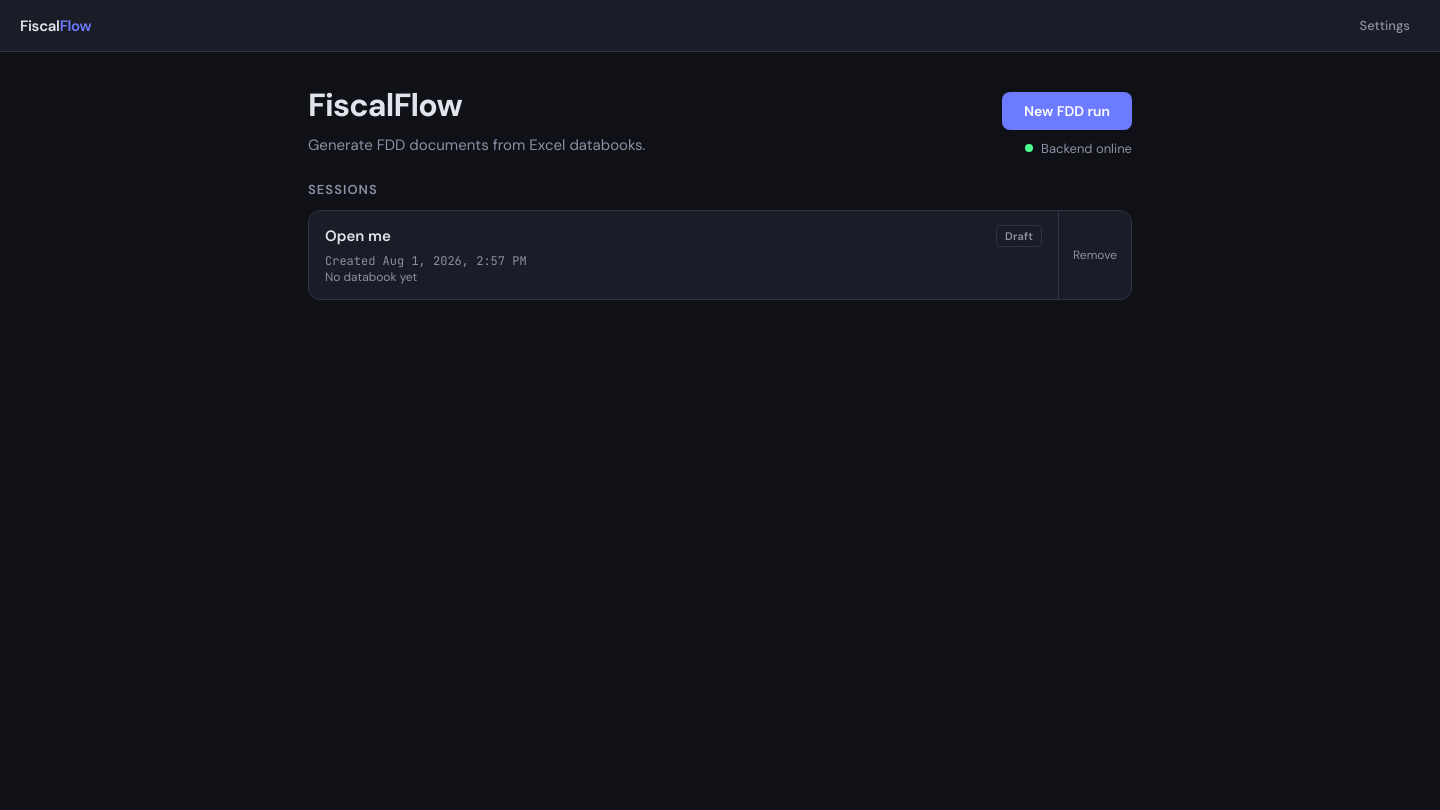
Test: HomePage sessions › opens an existing session on click
The image size is (1440, 810).
Check: the heading "Open me" is shown, box [325,226,391,246]
Click the button with aria-label "Open Open me". click: (358, 236)
box: [309,210,1058,298]
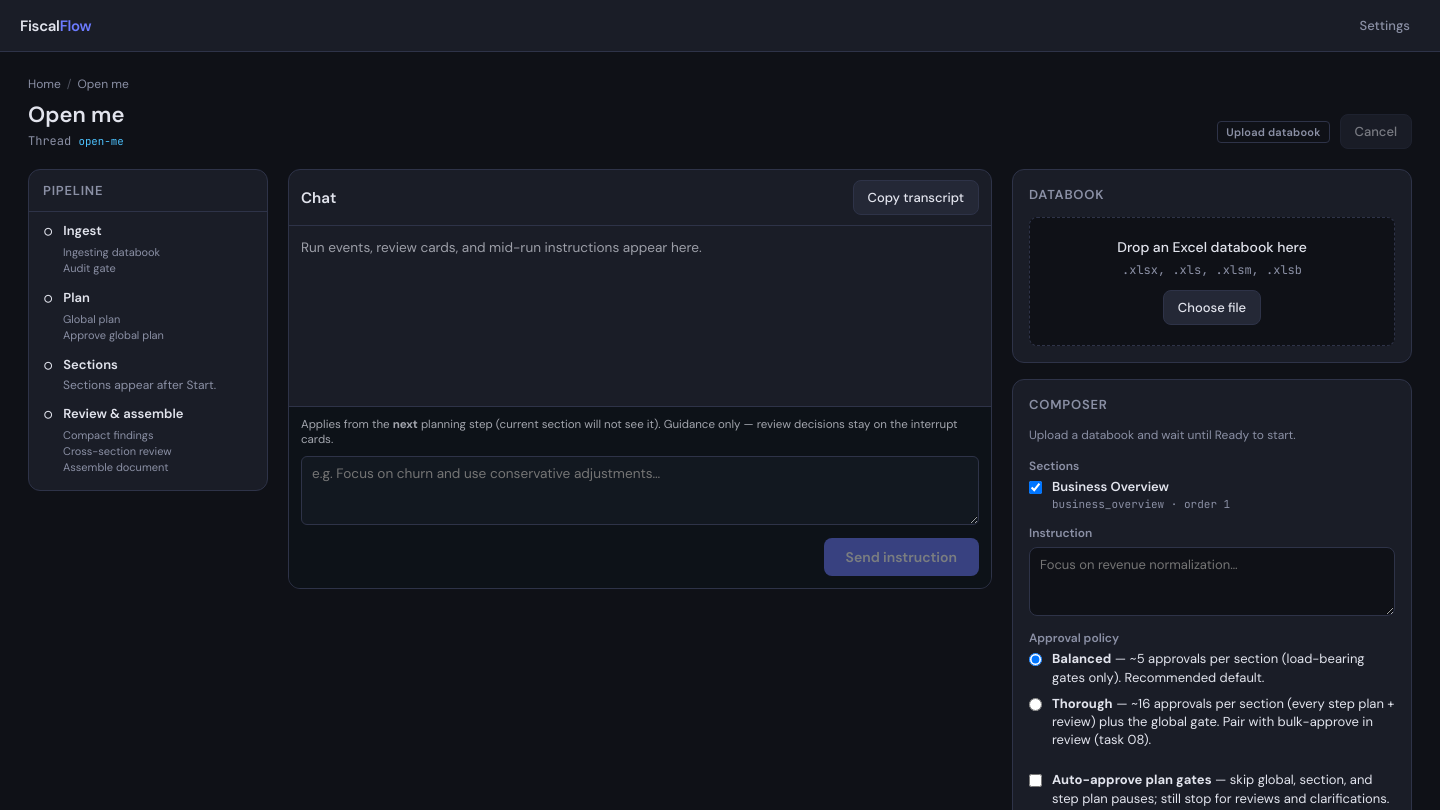
Check: the text "open-me" is shown, box [78,134,124,148]
